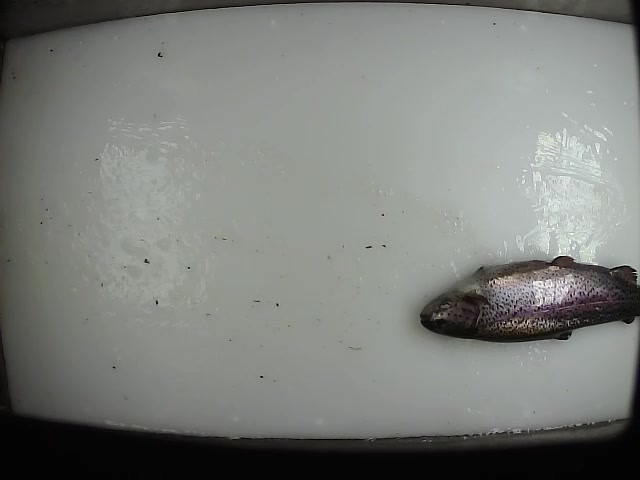Fish: (421, 256, 640, 344)
